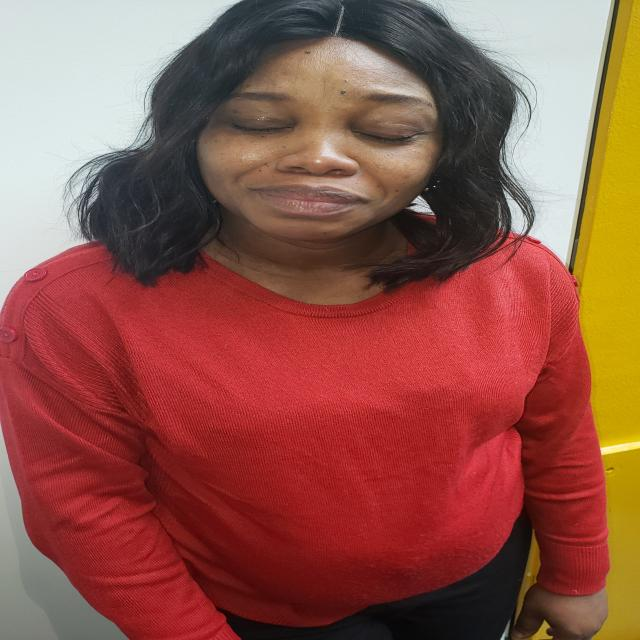sad: (189, 27, 454, 248)
